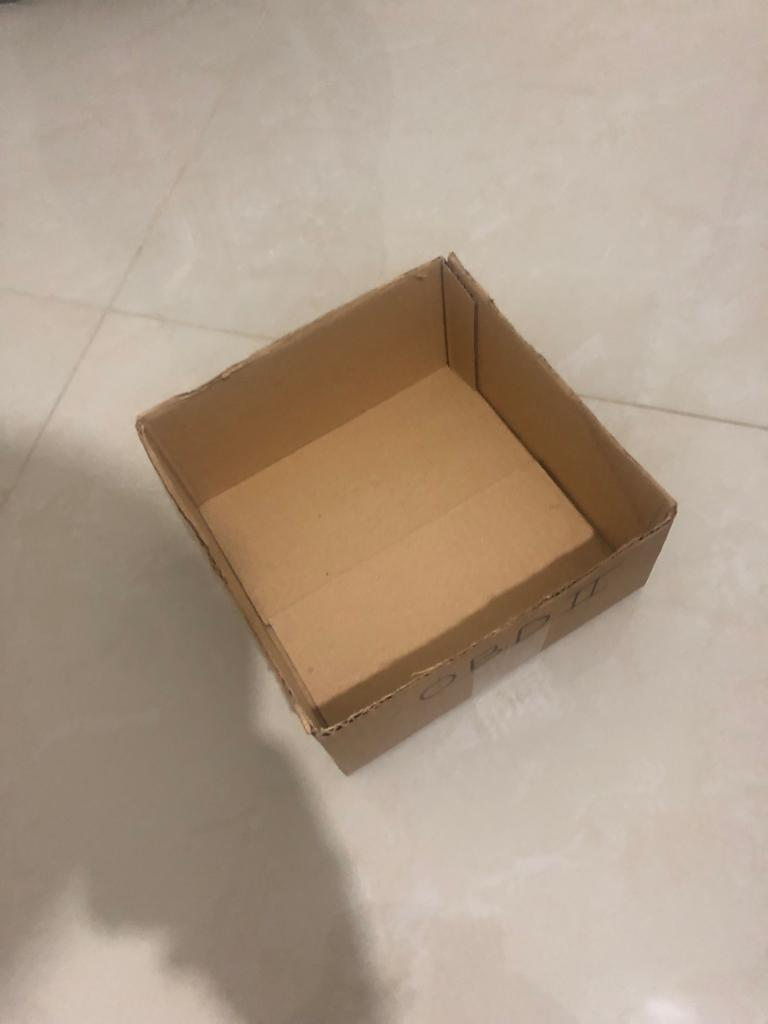CBox: (129, 241, 690, 785)
